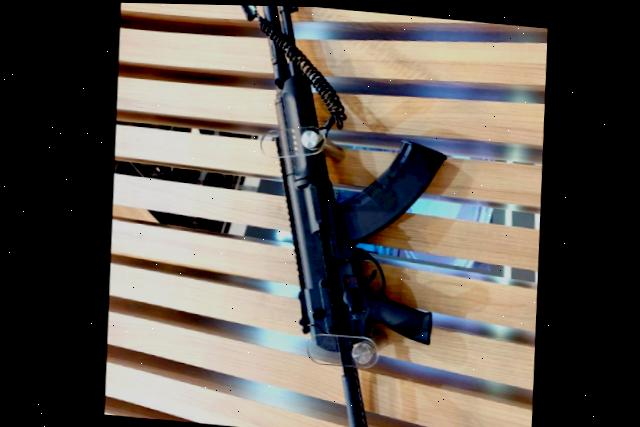rifle: (191, 3, 475, 427)
